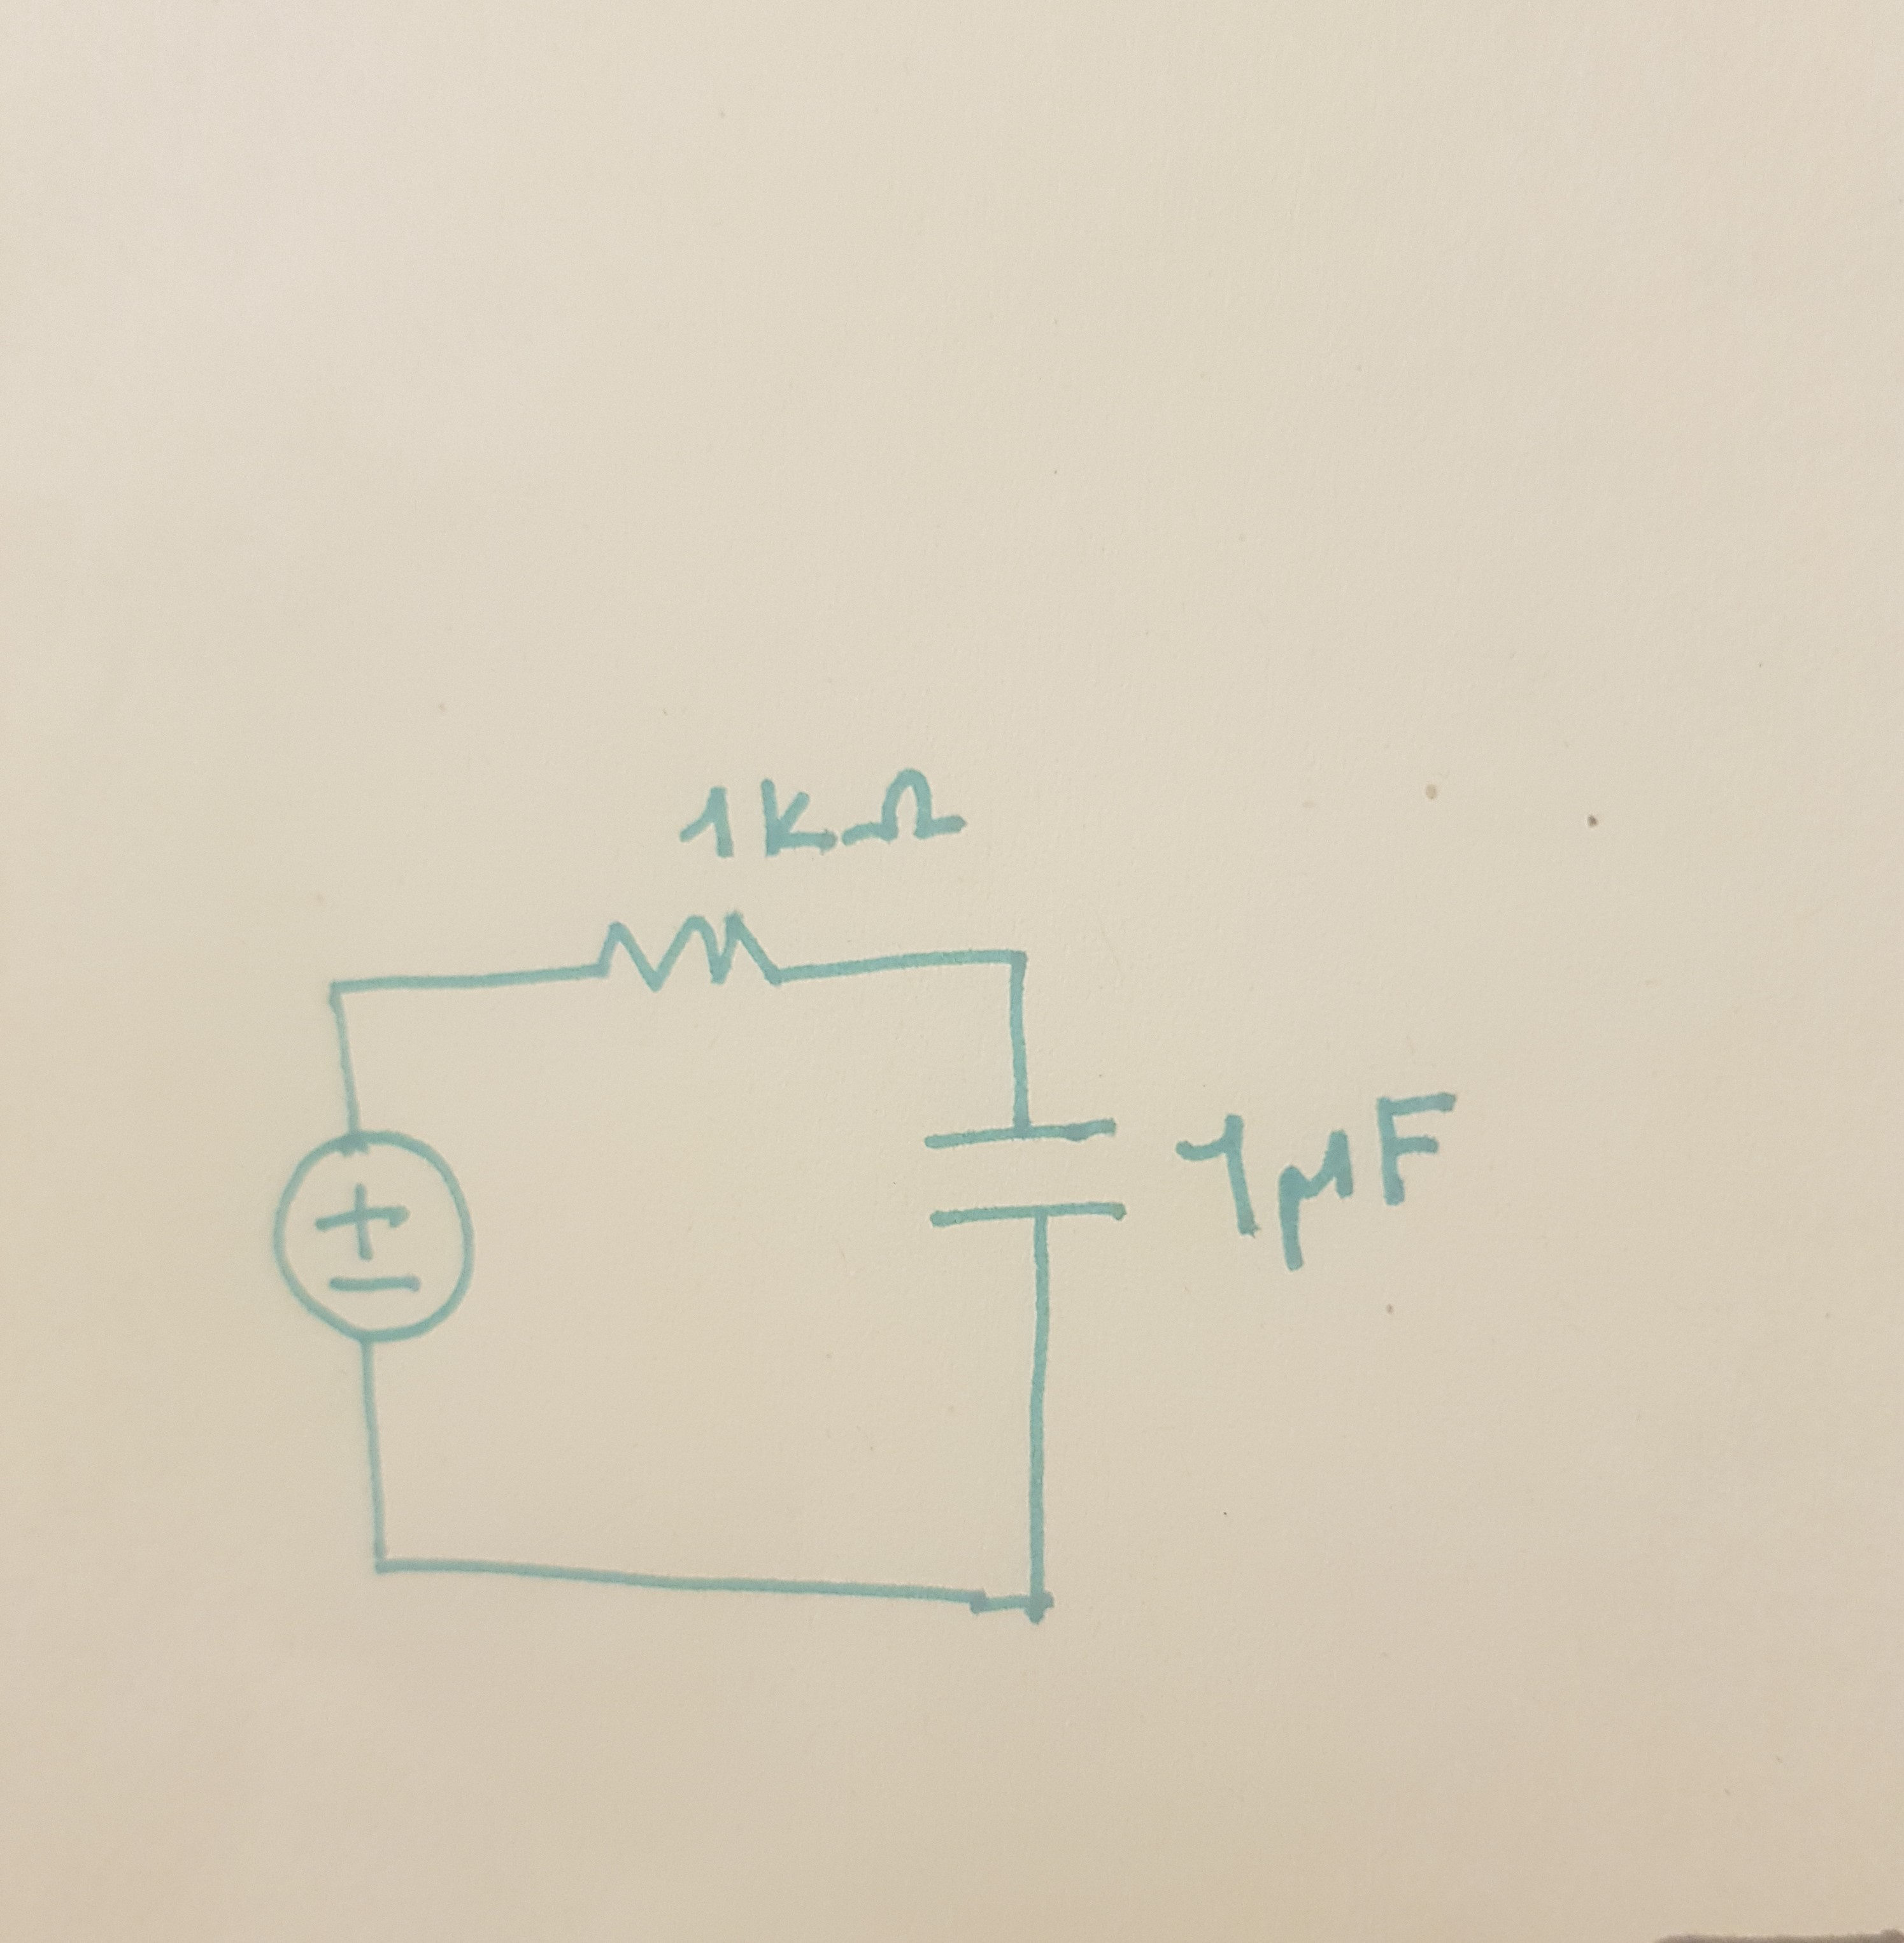capacitor.unpolarized: (907, 1100, 1144, 1248)
junction: (1003, 1570, 1071, 1638), (359, 1537, 418, 1591), (996, 938, 1041, 985), (321, 965, 364, 1012)
resistor: (572, 897, 800, 1012)
text: (1165, 1082, 1489, 1279), (675, 748, 973, 875)
voltage.dc: (255, 1119, 492, 1361)
